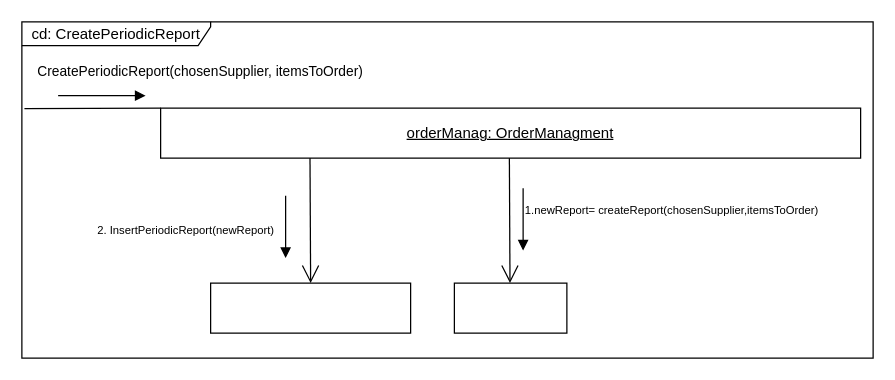
This 895x380 diagram has some shape labels left out. Here are the shapes that lost their labels. From the top down, the box of each, then its label:
(209, 282, 411, 333): periodicMapper: PeriodicReportDataMapper
(453, 282, 567, 333): report: PeriodicReport
